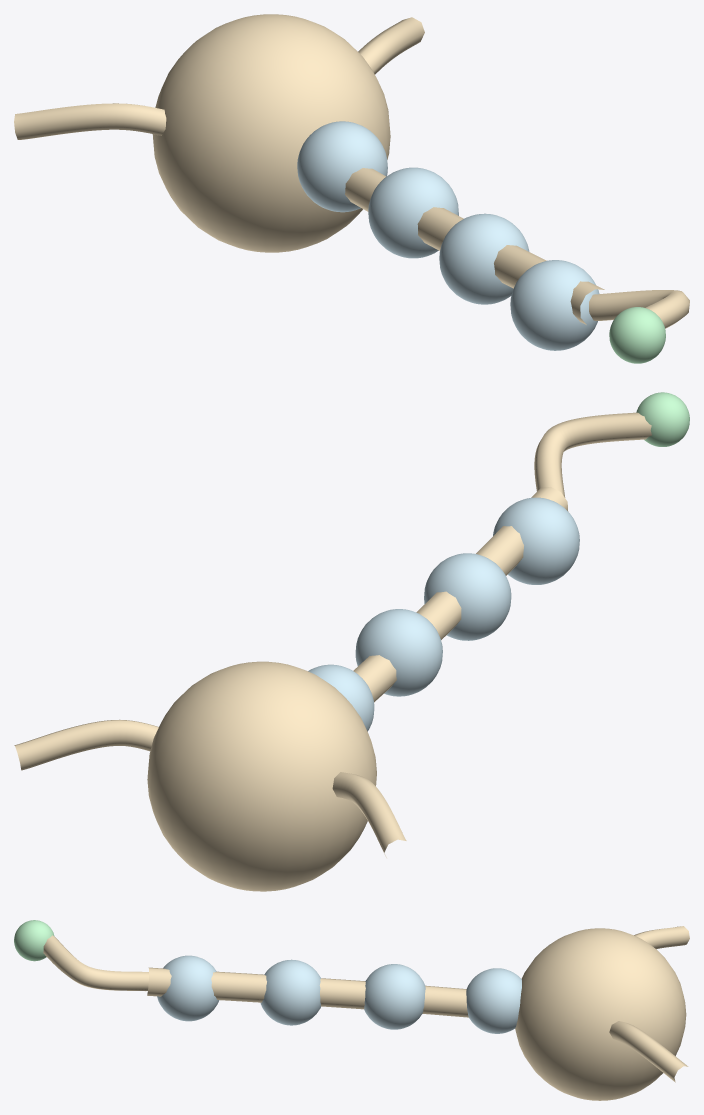
Rendered from neuron.glb.
3 views of the same model, one above another, from view 1: azimuth 30°, elevation 25°; view 2: azimuth 150°, elevation 25°; view 3: azimuth 270°, elevation 25° (orthographic). The views are drawn at different scales.
Visible parts, largest first — view 1: cell_body, myelin_sheath_4, myelin_sheath_1, myelin_sheath_3, myelin_sheath_2, dendrite_a, axon, synapse, axon_terminal, dendrite_b; view 2: cell_body, myelin_sheath_2, myelin_sheath_3, myelin_sheath_4, axon, axon_terminal, dendrite_b, dendrite_a, synapse, myelin_sheath_1; view 3: cell_body, axon, myelin_sheath_2, myelin_sheath_3, myelin_sheath_1, myelin_sheath_4, axon_terminal, dendrite_b, synapse, dendrite_a.
Boxes of the visible parts, x1=… form: cell_body: x1=152, y1=14, x2=390, y2=252; myelin_sheath_4: x1=510, y1=260, x2=599, y2=350; myelin_sheath_1: x1=297, y1=121, x2=387, y2=212; myelin_sheath_3: x1=439, y1=213, x2=529, y2=304; myelin_sheath_2: x1=368, y1=167, x2=458, y2=258; dendrite_a: x1=14, y1=103, x2=166, y2=139; axon: x1=345, y1=168, x2=604, y2=324; synapse: x1=609, y1=307, x2=665, y2=363; axon_terminal: x1=589, y1=290, x2=689, y2=328; dendrite_b: x1=358, y1=17, x2=424, y2=74; cell_body: x1=147, y1=661, x2=376, y2=891; myelin_sheath_2: x1=355, y1=609, x2=442, y2=696; myelin_sheath_3: x1=424, y1=553, x2=511, y2=640; myelin_sheath_4: x1=493, y1=497, x2=579, y2=584; axon: x1=353, y1=487, x2=568, y2=702; axon_terminal: x1=534, y1=412, x2=651, y2=497; dendrite_b: x1=14, y1=719, x2=158, y2=770; dendrite_a: x1=332, y1=772, x2=406, y2=857; synapse: x1=636, y1=392, x2=689, y2=446; myelin_sheath_1: x1=308, y1=664, x2=374, y2=731; cell_body: x1=515, y1=928, x2=686, y2=1100; axon: x1=147, y1=967, x2=468, y2=1017; myelin_sheath_2: x1=364, y1=964, x2=425, y2=1029; myelin_sheath_3: x1=260, y1=959, x2=320, y2=1025; myelin_sheath_1: x1=466, y1=968, x2=521, y2=1033; myelin_sheath_4: x1=157, y1=955, x2=219, y2=1021; axon_terminal: x1=43, y1=935, x2=148, y2=991; dendrite_b: x1=609, y1=1021, x2=688, y2=1082; synapse: x1=14, y1=920, x2=54, y2=961; dendrite_a: x1=634, y1=926, x2=689, y2=949.
Bounding box in the file's own units: 0.8796 × 0.4595 × 1.74.
